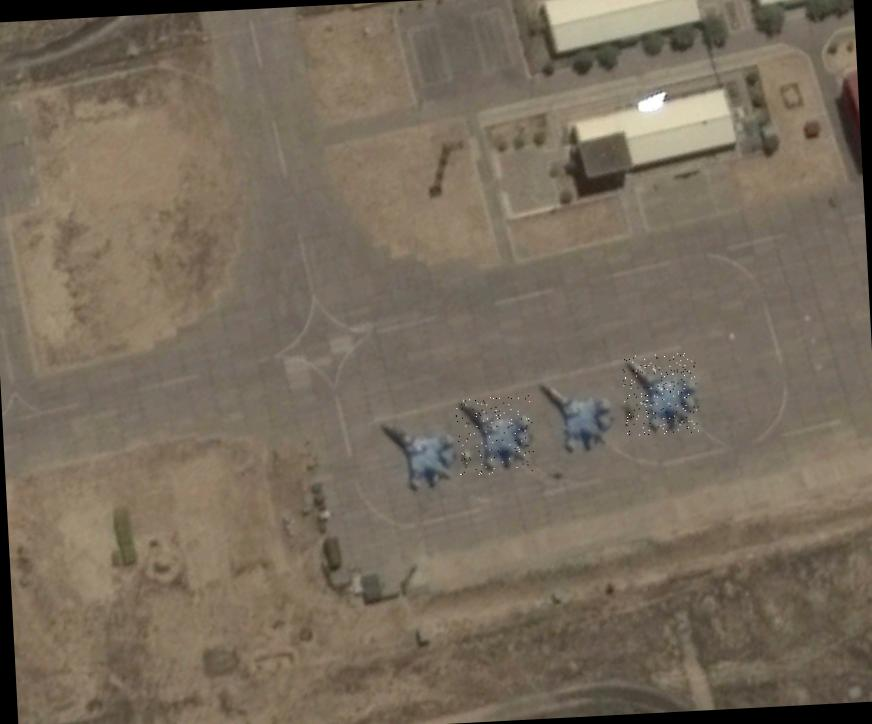A1: (622, 352, 700, 437), (374, 412, 456, 492), (455, 395, 535, 476), (535, 376, 616, 456)
